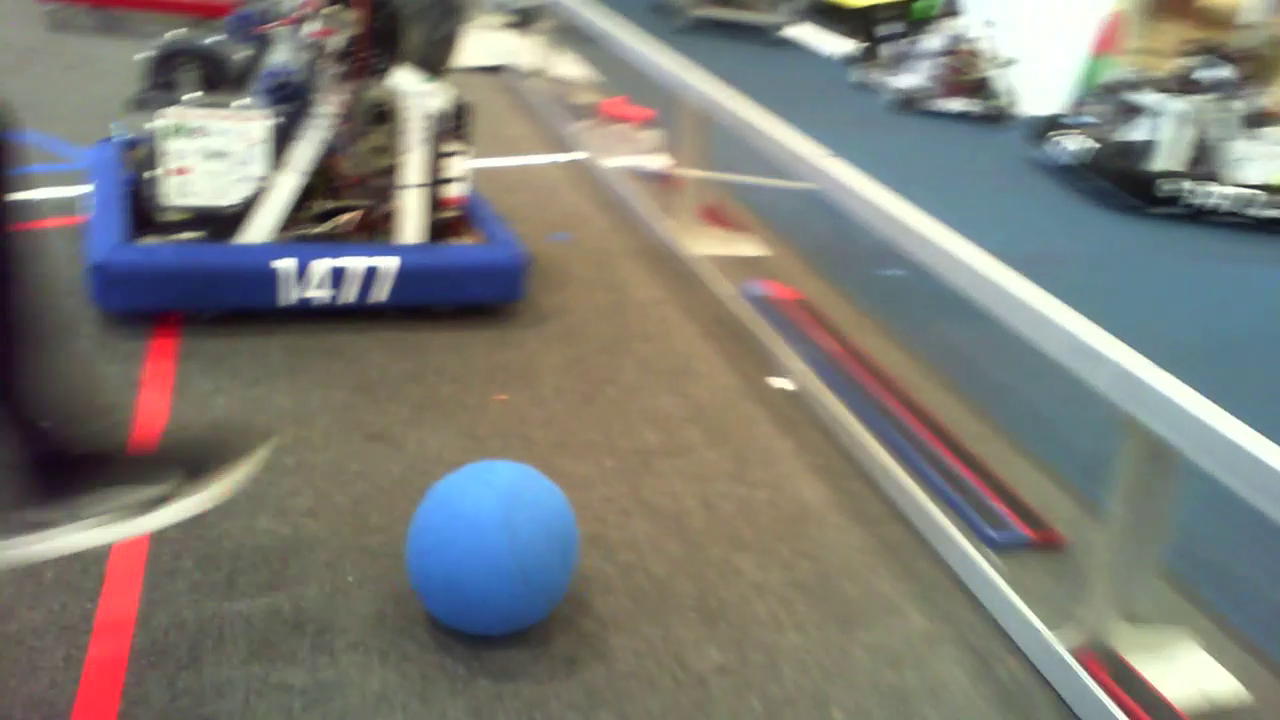blue_cargo: (388, 448, 585, 640)
blue_robot: (70, 8, 537, 322)
